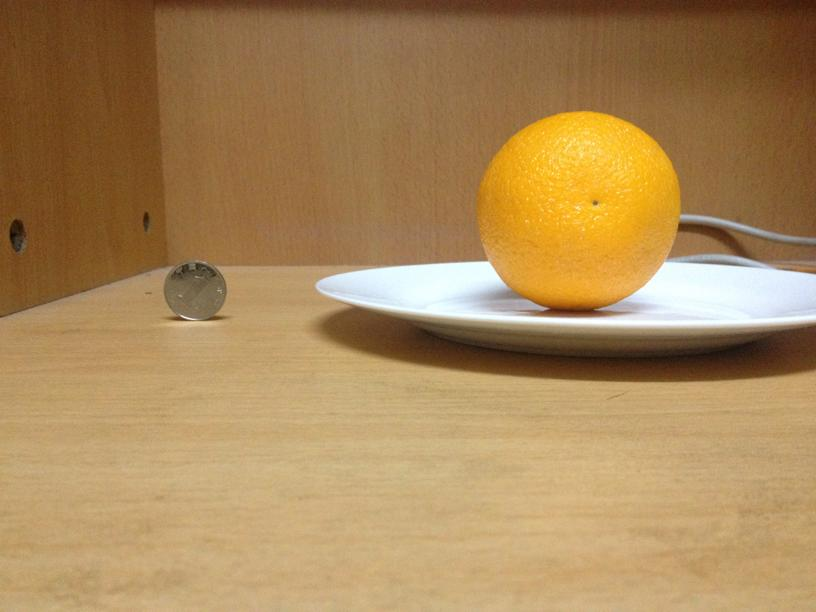coin: (162, 262, 226, 320)
orange: (474, 111, 683, 309)
